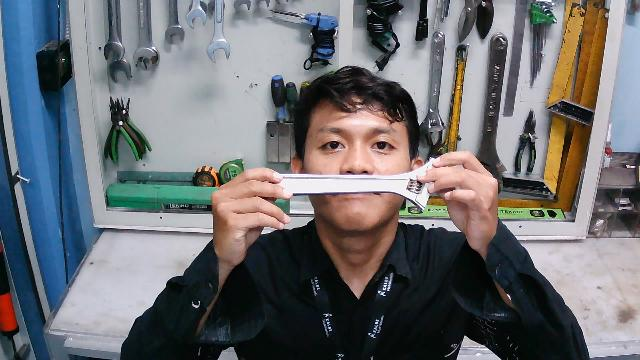kunci_inggris: (261, 156, 443, 211)
